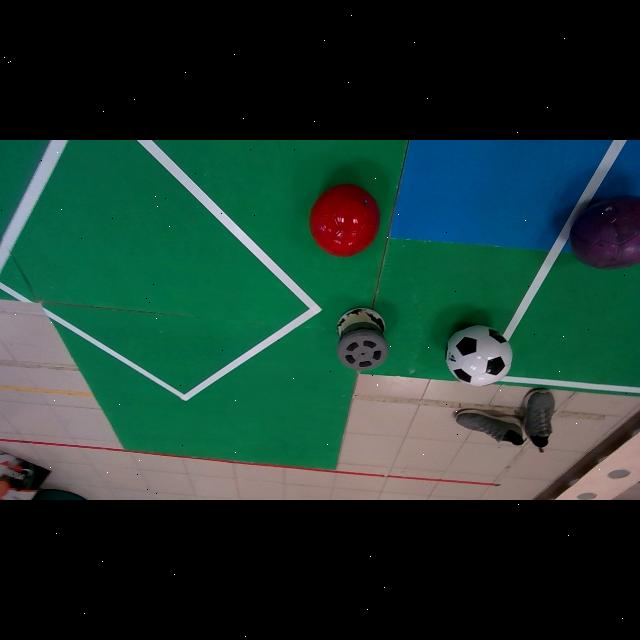P: (569, 196, 640, 269)
R: (310, 184, 380, 256)
